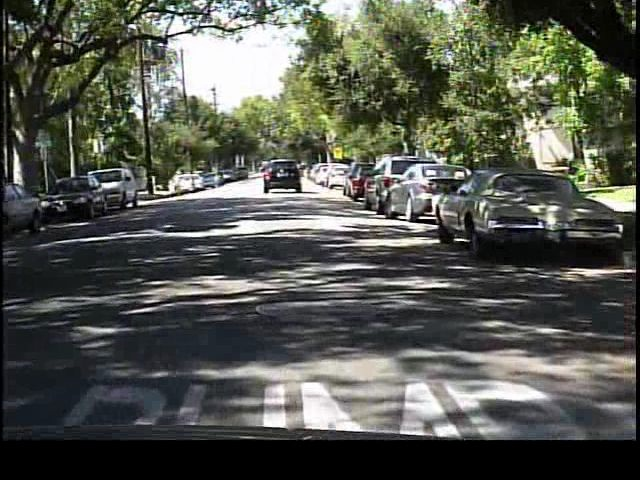person: (172, 168, 187, 198)
